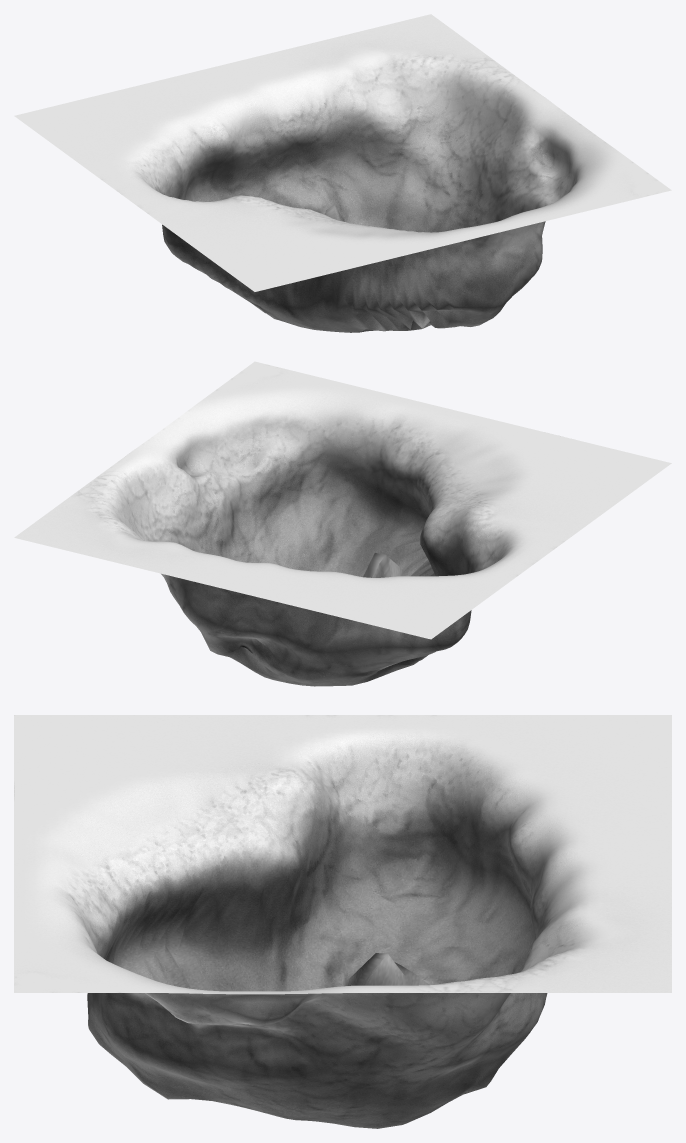
The model's file is RockTest.dae.
The picture shows the model from 3 angles, top to bottom: view 1: azimuth 30°, elevation 25°; view 2: azimuth 150°, elevation 25°; view 3: azimuth 270°, elevation 25°; orthographic projection. The views are drawn at different scales.
Parts seen in each view (by area): view 1: Grid; view 2: Grid; view 3: Grid.
Boxes of the visible parts, bbox=[...] form: Grid: bbox=[14, 14, 671, 332]; Grid: bbox=[14, 361, 671, 686]; Grid: bbox=[14, 715, 671, 1128].
Size of the model in its own units: 20.01 by 20 by 8.
Materials: 1 (1 with a texture image).
